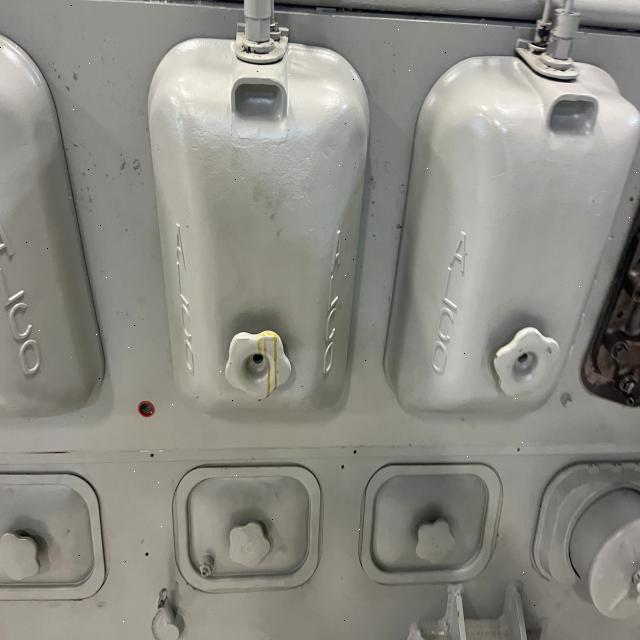Oil Leak: (256, 329, 288, 398)
